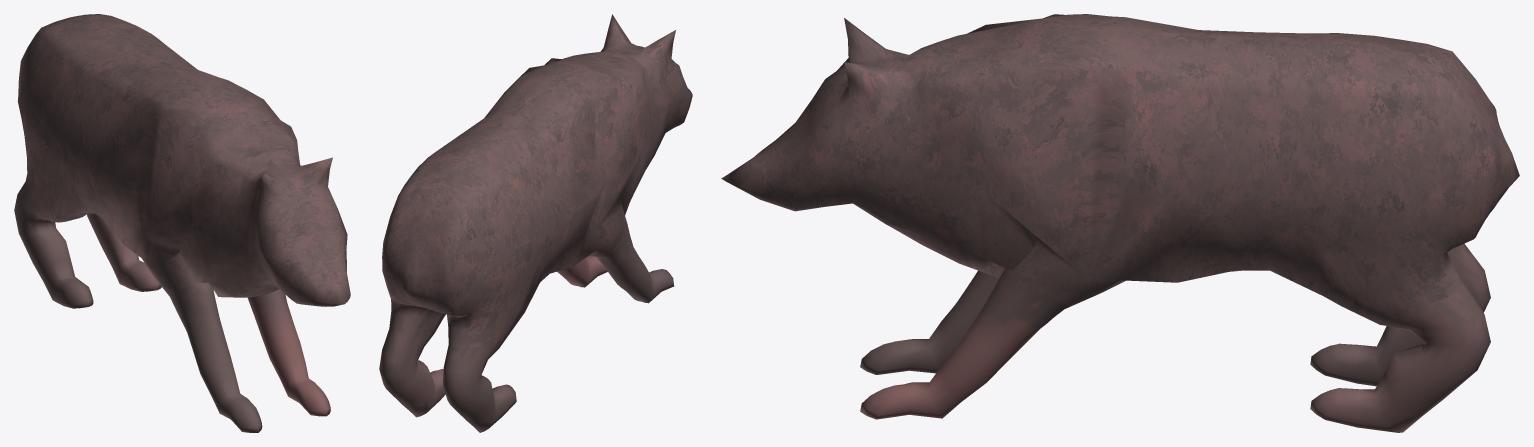
The model's file is piesblend_000032.obj.
3 views of the same model, side by side, from view 1: azimuth 30°, elevation 25°; view 2: azimuth 150°, elevation 25°; view 3: azimuth 270°, elevation 25° (orthographic). The views are drawn at different scales.
Visible parts, largest first — view 1: Cube; view 2: Cube; view 3: Cube.
Part boxes in pixels (x1,y1,x2,y2): Cube: (14,14,350,432); Cube: (379,14,692,432); Cube: (721,14,1519,432).
Size of the model in its own units: 2.55 by 5.05 by 9.53.
Materials: 1 (1 with a texture image).
